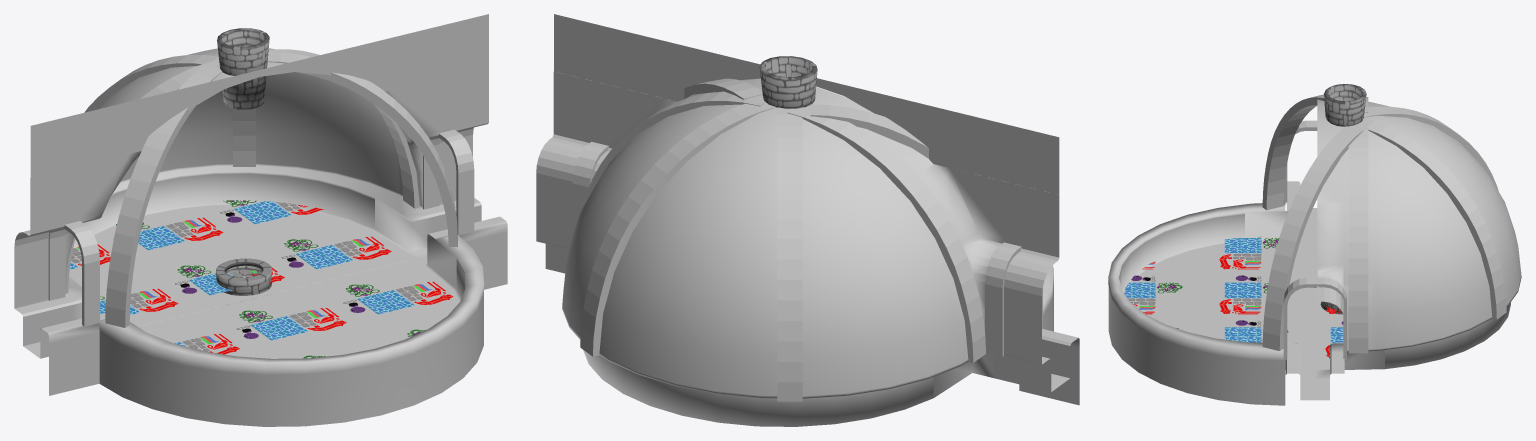
File: Dome Fixed.fbx
3 views of the same model, side by side, from view 1: azimuth 30°, elevation 25°; view 2: azimuth 150°, elevation 25°; view 3: azimuth 270°, elevation 25° (orthographic). The views are drawn at different scales.
Parts seen in each view (by area): view 1: Sewer Well, Sewer Well Dirt Addition, Dome.002, Pillar 1, Arches, Well Lower, Pillar 3, Pillar 2, Well Main; view 2: Sewer Well, Sewer Well Dirt Addition, Pillar 3, Pillar 2, Arches, Pillar 1, Well Lower; view 3: Sewer Well, Pillar 1, Pillar 3, Pillar 2, Dome.002, Well Lower, Arches.
Part boxes in pixels (box(x1,y1,x2,y2)): Sewer Well: box(14, 48, 507, 426); Sewer Well Dirt Addition: box(30, 14, 488, 177); Dome.002: box(70, 200, 453, 358); Pillar 1: box(105, 51, 457, 327); Arches: box(48, 129, 474, 326); Well Lower: box(217, 28, 269, 109); Pillar 3: box(84, 55, 255, 166); Pillar 2: box(65, 49, 419, 293); Well Main: box(216, 258, 271, 295); Sewer Well: box(536, 71, 1079, 426); Sewer Well Dirt Addition: box(554, 14, 1059, 194); Pillar 3: box(580, 98, 802, 401); Pillar 2: box(581, 91, 985, 362); Arches: box(572, 141, 1042, 356); Pillar 1: box(684, 78, 928, 158); Well Lower: box(759, 56, 817, 108); Sewer Well: box(1108, 99, 1521, 405); Pillar 1: box(1262, 94, 1363, 350); Pillar 3: box(1354, 106, 1506, 319); Pillar 2: box(1348, 97, 1368, 353); Dome.002: box(1124, 236, 1343, 358); Well Lower: box(1324, 84, 1366, 126); Arches: box(1283, 120, 1346, 359).
Bounding box in the file's own units: 46.11 × 26.59 × 41.87.
